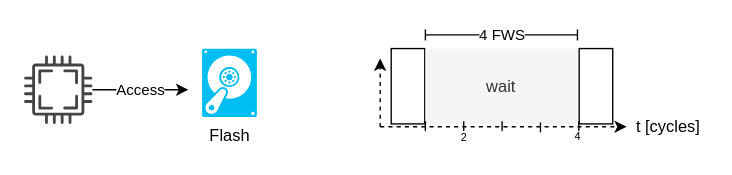
The diagram is 732 pixels wide and 175 high, and some of its shapes have lost their labels. Each missing label, with the centre of its shape:
"Read" goes at (x=595, y=85).
"Request" goes at (x=407, y=85).
